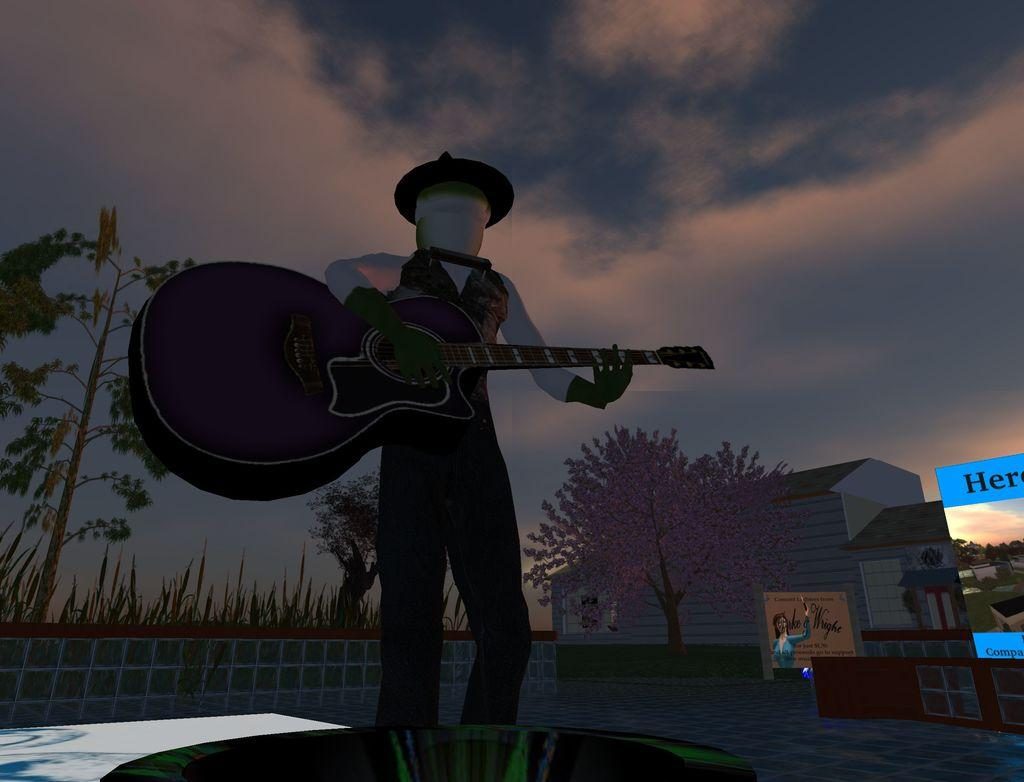Hat: (396, 152, 516, 223)
